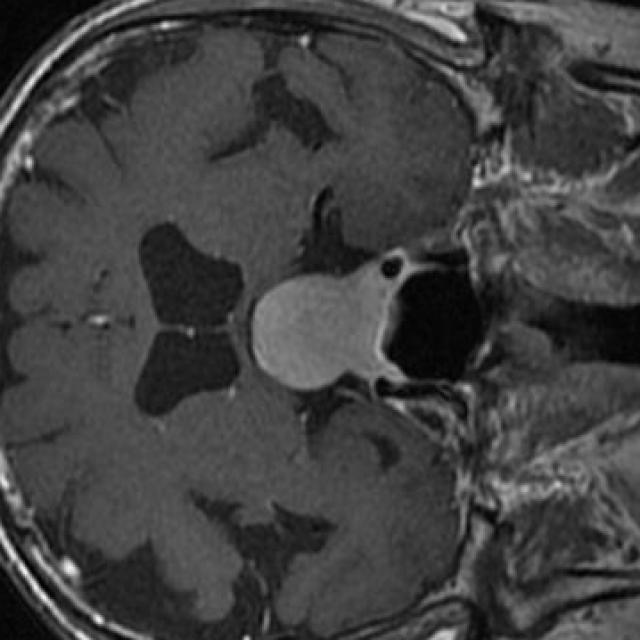pituitary: (251, 267, 392, 390)
